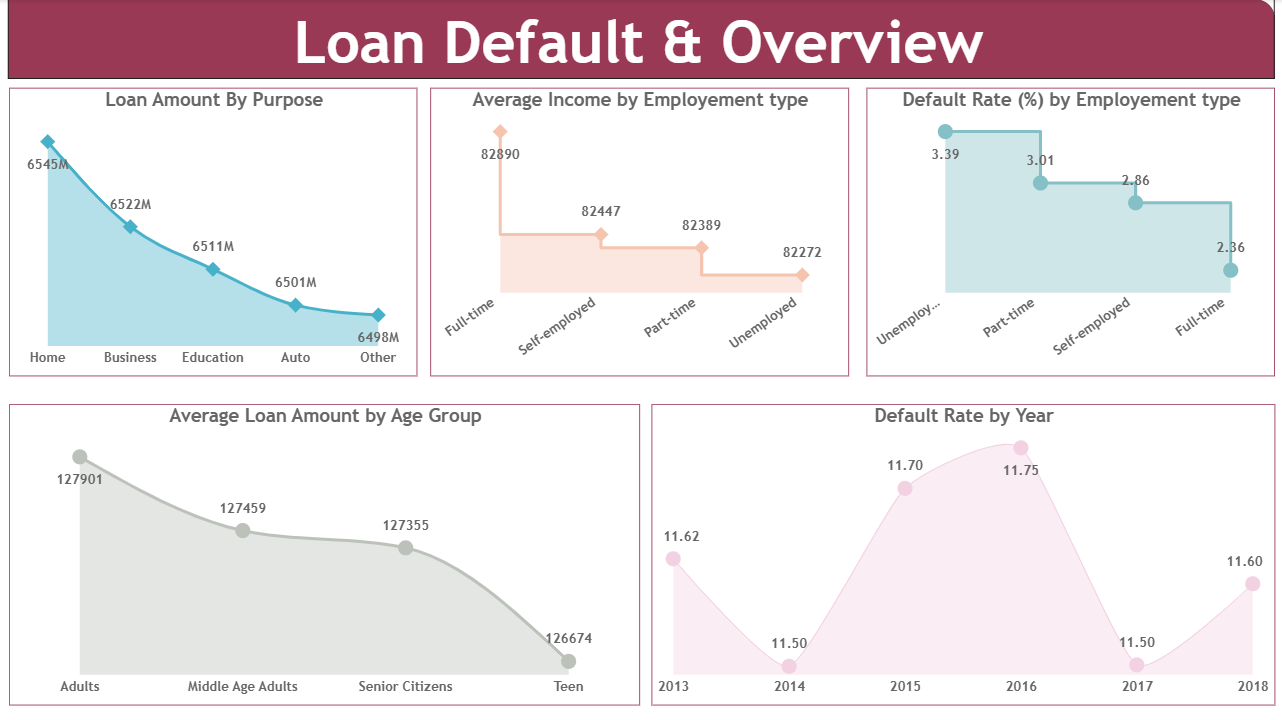

This screenshot's page, from the dashboard's own definition file:
{"tool":"powerbi","page":{"name":"Loan Default & Overview","canvas":[1280,720],"ordinal":0},"visuals":[{"type":"shape","box":[8.7,0,1261.4,79.6],"z":0},{"type":"lineChart","title":"Loan Amount By Purpose","fields":{"Y":["Measures Table1.Loan Amount By Purpose"],"Category":["Loan_default.LoanPurpose"]},"box":[10,88.3,406.8,287.4],"z":1000},{"type":"lineChart","title":"Average Income  by Employement type","fields":{"Y":["Measures Table1.Average Income By Employement type"],"Category":["Loan_default.EmploymentType"]},"box":[429.2,88.3,416.7,287.4],"z":2000},{"type":"lineChart","title":"Default Rate (%) by Employement type","fields":{"Y":["Measures Table1.Default Rate by Employement type"],"Category":["Loan_default.EmploymentType"]},"box":[863.3,88.3,406.8,287.4],"z":3000},{"type":"lineChart","title":"Average Loan Amount by Age Group","fields":{"Y":["Measures Table1.Average Loan by Age Group"],"Category":["Loan_default.Age groups"]},"box":[10,403,628.2,299.8],"z":4000},{"type":"lineChart","title":"Default Rate by Year","fields":{"Y":["Measures Table1.Default Rate by year"],"Category":["Loan_default.Year"]},"box":[649.3,403,620.7,299.8],"z":5000}]}

Visuals, with their boxes in screenshot pixels (x1, y1, x2, y2), scaled from the page's 1280x720 canvas onto the 1282x720 screenshot:
shape: box=[9, 0, 1272, 80]
"Loan Amount By Purpose" lineChart: box=[10, 88, 417, 376]
"Average Income  by Employement type" lineChart: box=[430, 88, 847, 376]
"Default Rate (%) by Employement type" lineChart: box=[865, 88, 1272, 376]
"Average Loan Amount by Age Group" lineChart: box=[10, 403, 639, 703]
"Default Rate by Year" lineChart: box=[650, 403, 1272, 703]
